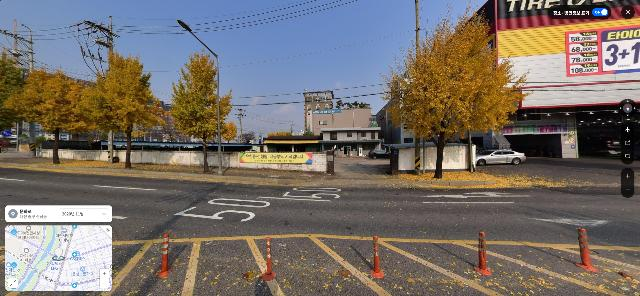ginkgo: (380, 5, 531, 179), (82, 50, 168, 169), (2, 66, 86, 165), (171, 51, 236, 172)
